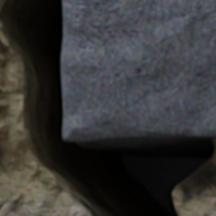brick: (61, 0, 215, 141)
crack: (0, 0, 214, 215)
